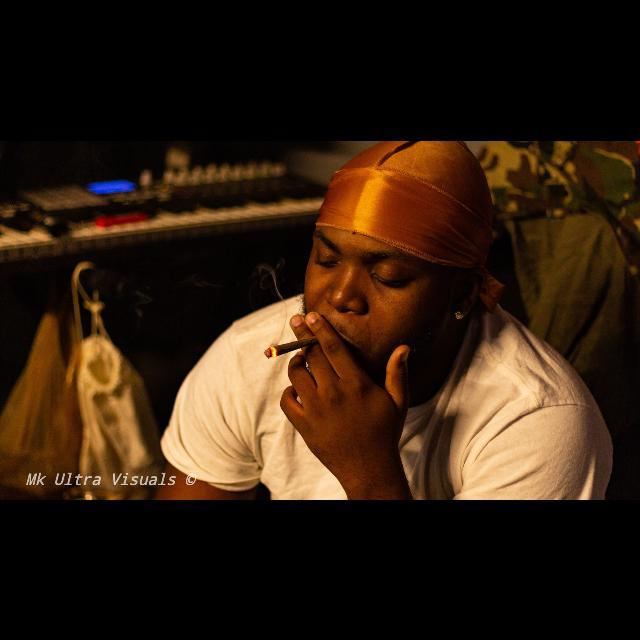rokok: (260, 332, 316, 361)
